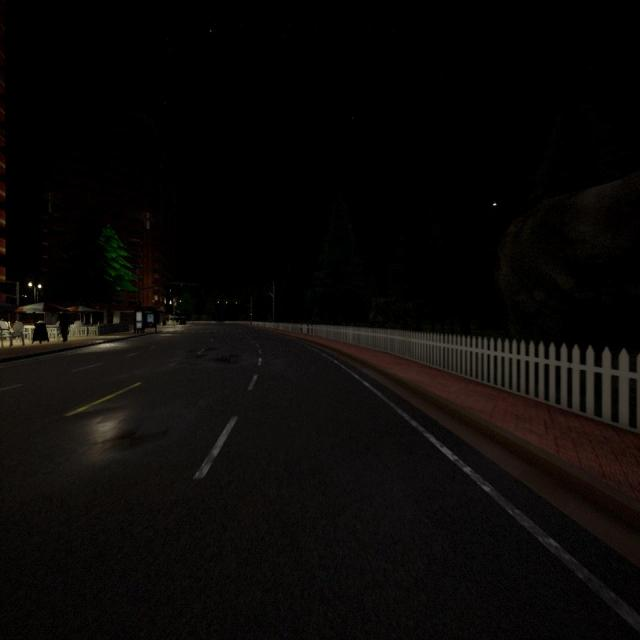traffic_light: (225, 300, 228, 304), (217, 300, 219, 304), (250, 312, 252, 316), (235, 302, 237, 304)
